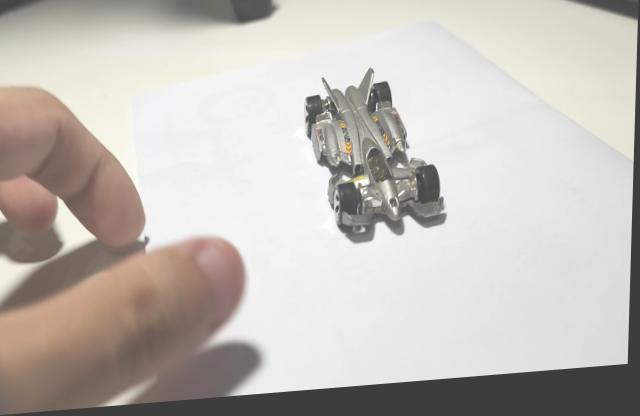05_DC121: (304, 75, 449, 251)
